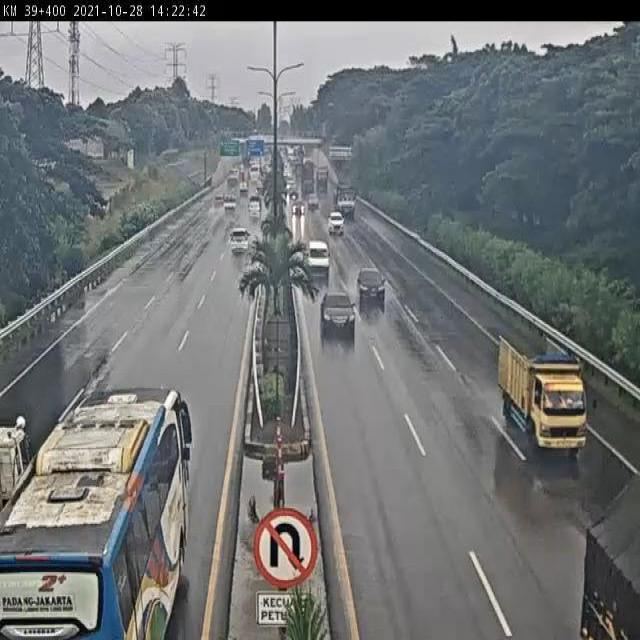bus-l-: (0, 388, 192, 640)
truck-l-: (334, 184, 358, 219)
truck-s-: (499, 329, 589, 455)
